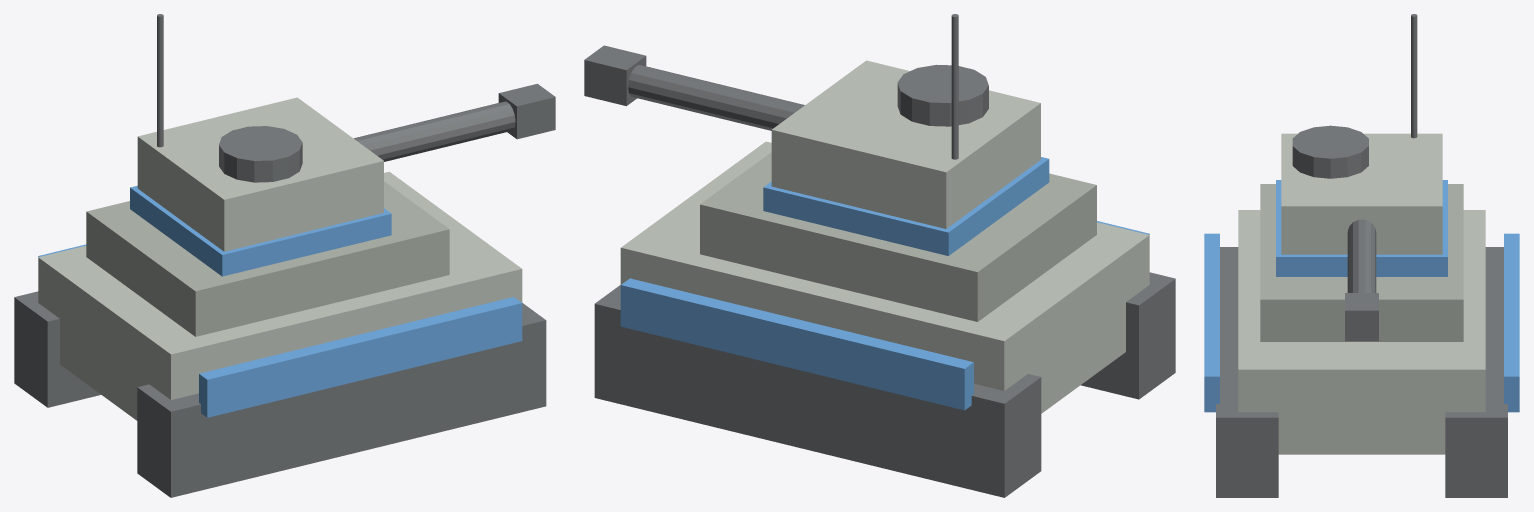
File: tank_blue.glb
3 views of the same model, side by side, from view 1: azimuth 30°, elevation 25°; view 2: azimuth 150°, elevation 25°; view 3: azimuth 270°, elevation 25° (orthographic). The views are drawn at different scales.
Parts seen in each view (by area): view 1: part00, part02, part03, part06, part04, part07, part01, part08, part10, part09, part11; view 2: part01, part02, part03, part06, part05, part07, part00, part08, part10, part09, part11; view 3: part02, part06, part03, part00, part01, part07, part10, part04, part05, part08, part09, part11.
Boxes of the visible parts, x1,y1,x2,y2 form: part00: (137, 303, 546, 497); part02: (38, 171, 522, 420); part03: (86, 181, 449, 336); part06: (137, 97, 383, 251); part04: (199, 297, 522, 417); part07: (130, 185, 391, 276); part01: (14, 291, 100, 407); part08: (354, 101, 515, 161); part10: (219, 126, 302, 182); part09: (498, 83, 555, 139); part11: (157, 14, 163, 147); part01: (594, 285, 1041, 497); part02: (620, 141, 1149, 413); part03: (700, 152, 1096, 321); part06: (771, 60, 1040, 228); part05: (620, 278, 973, 410); part07: (763, 157, 1049, 255); part00: (1081, 272, 1175, 399); part08: (628, 65, 804, 130); part10: (897, 64, 988, 126); part09: (584, 45, 646, 106); part11: (951, 14, 958, 159); part02: (1238, 210, 1485, 454); part06: (1281, 133, 1442, 254); part03: (1260, 184, 1463, 341); part00: (1216, 247, 1278, 497); part01: (1445, 247, 1507, 497); part07: (1276, 180, 1447, 276); part10: (1292, 125, 1368, 178); part04: (1204, 233, 1219, 412); part05: (1504, 233, 1519, 412); part08: (1347, 219, 1376, 292); part09: (1345, 293, 1378, 341); part11: (1411, 14, 1417, 138).
Size of the model in its own units: 1.88 by 1.5 by 1.21.
